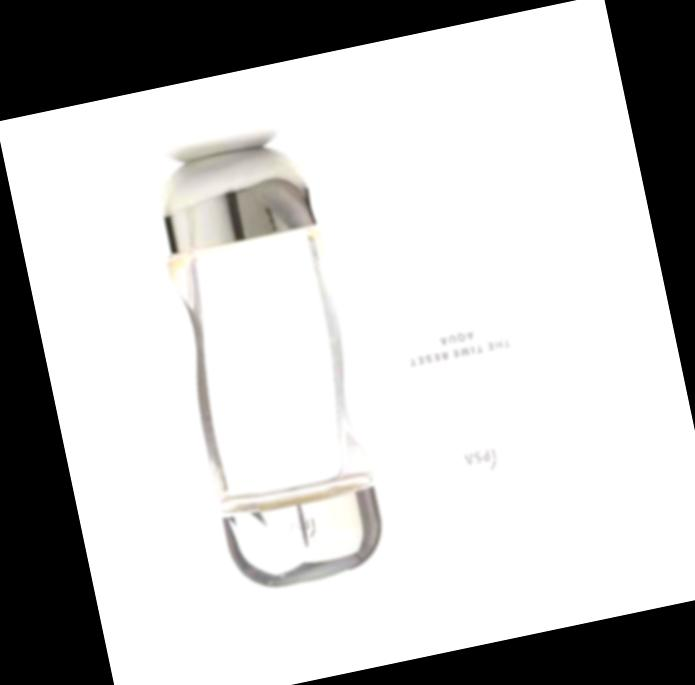cosmetic: (139, 133, 390, 598)
